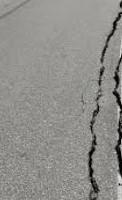crack: (87, 64, 105, 200), (111, 52, 122, 187), (99, 12, 122, 65)
